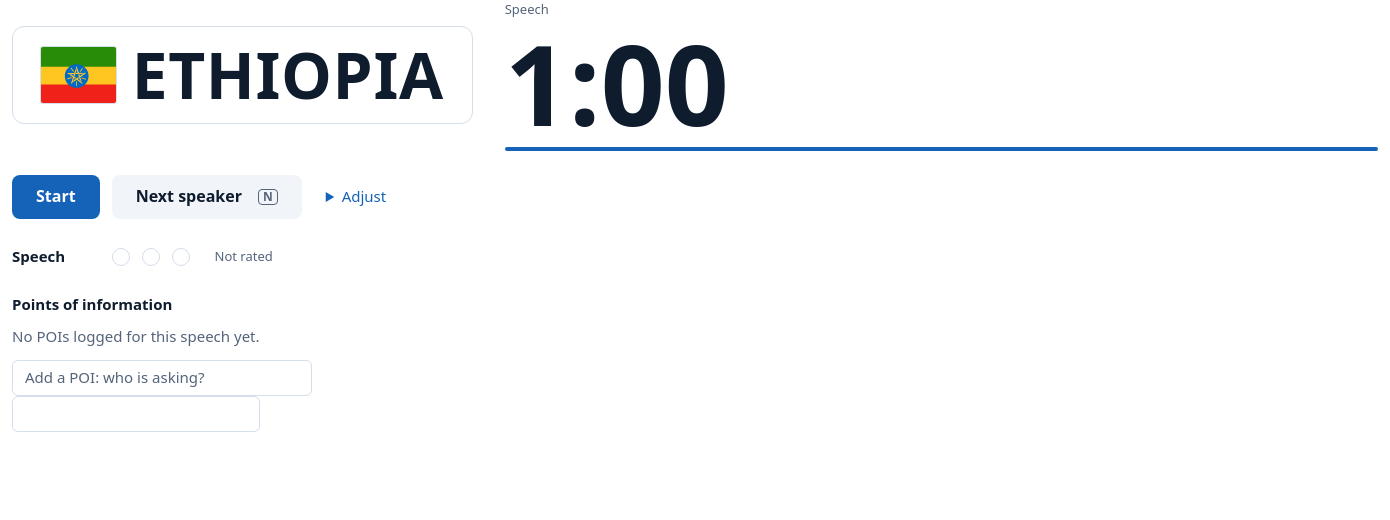
Test case: SpeechPanel POIs › excludes the speaker and queued delegates from asker options
Click the dropdown named "POI from" at (162,378), box x1=12 y1=360 x2=312 y2=396
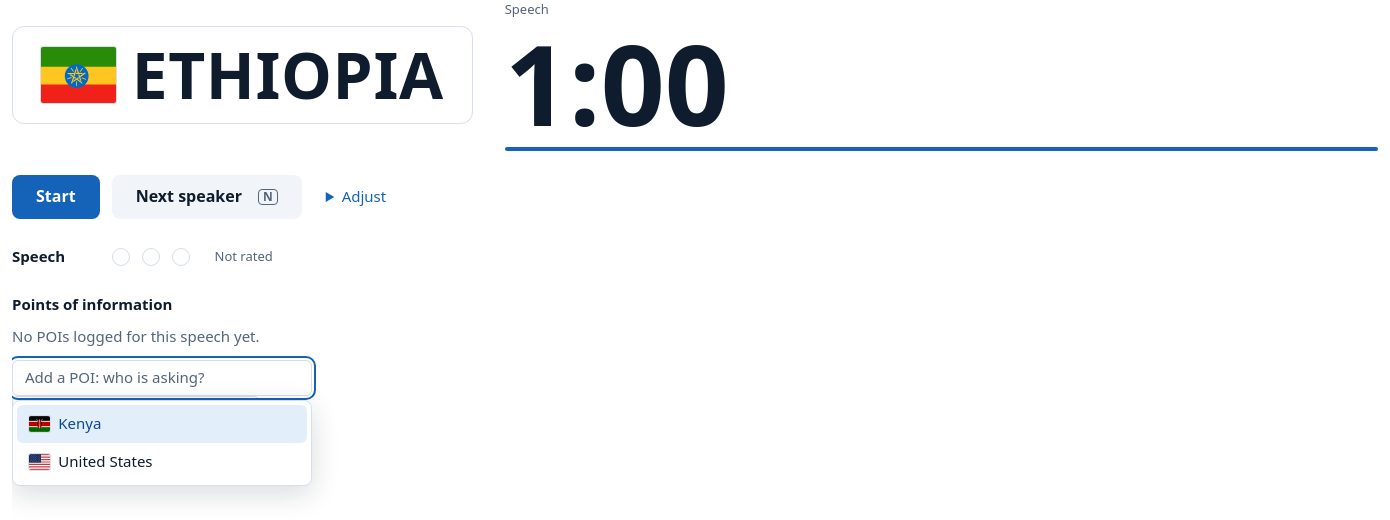
Result: the option "Kenya" is shown
Click the option "Kenya" at (80,423), box x1=17 y1=405 x2=307 y2=443
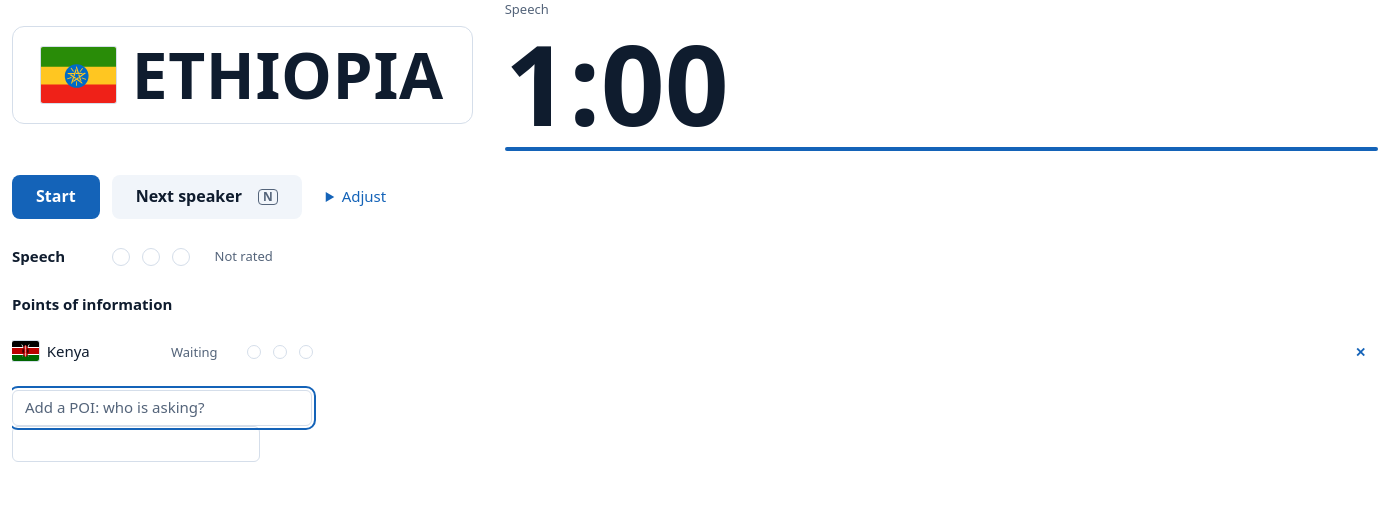
Click the dropdown named "POI from" at (162,408), box x1=12 y1=390 x2=312 y2=426
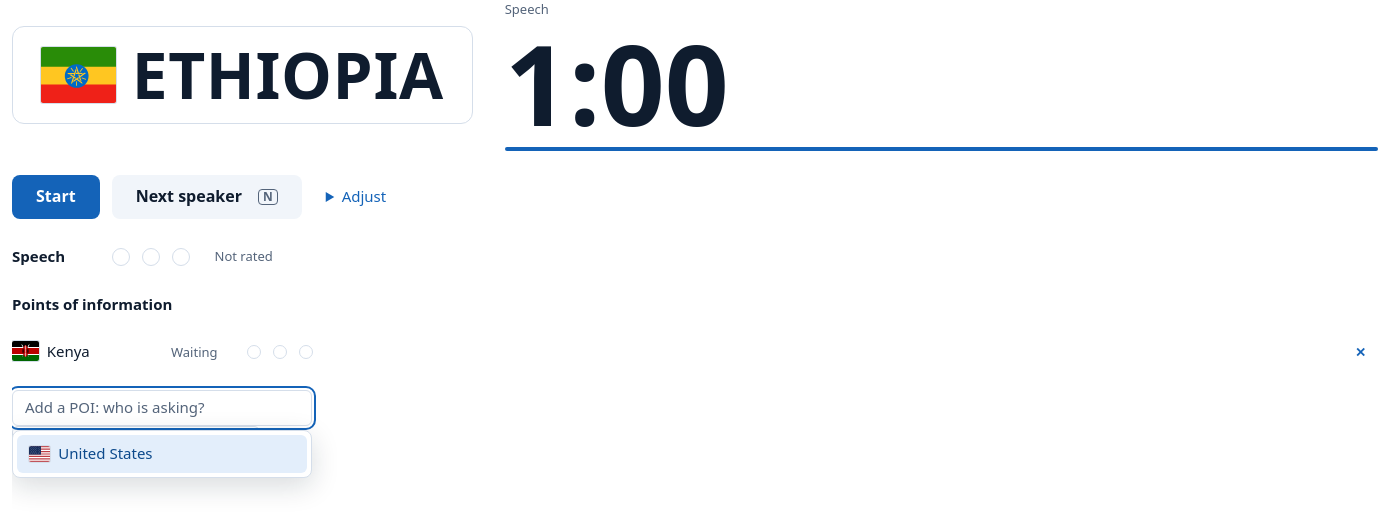
Result: the option "United States" is shown at x1=17 y1=435 x2=307 y2=473
